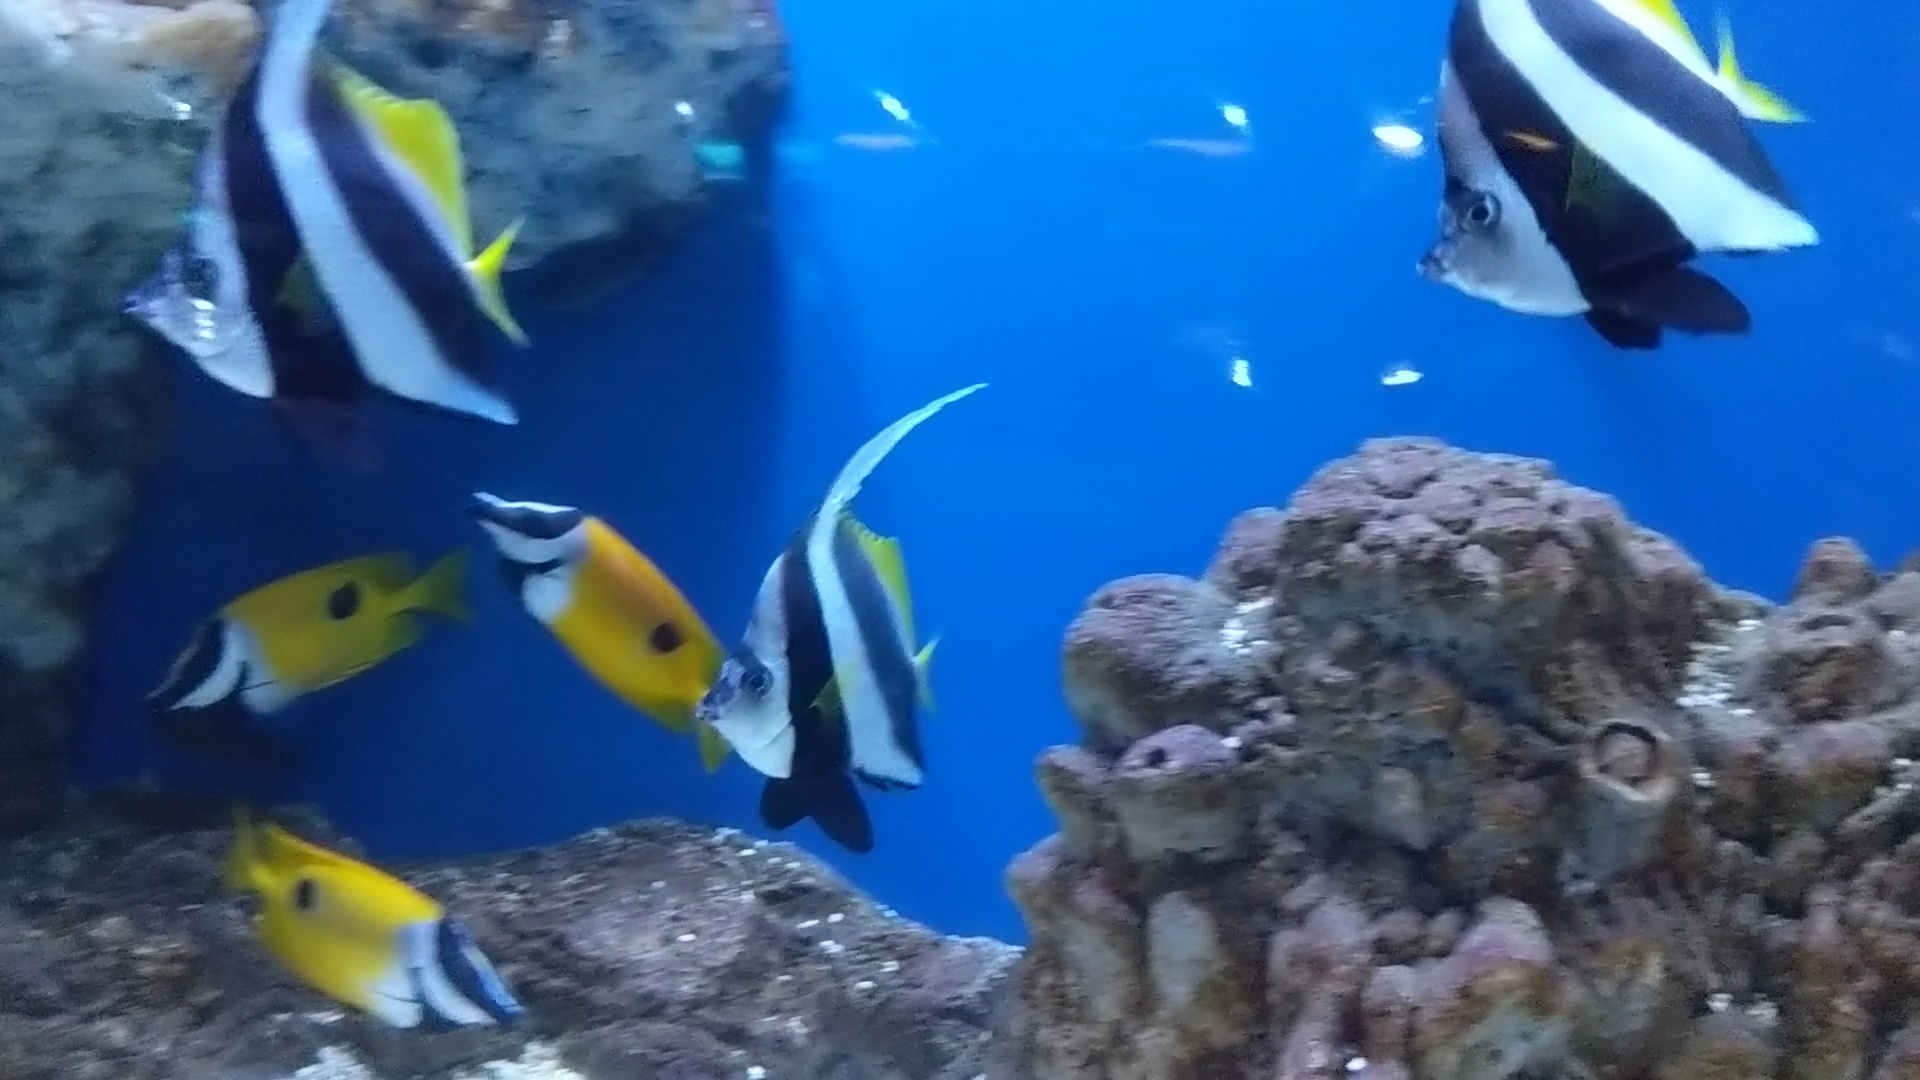moorfish: (107, 15, 533, 436), (1377, 3, 1822, 336), (692, 417, 982, 843)
rabbitfish: (444, 464, 742, 766), (212, 793, 537, 1040), (115, 556, 433, 712)
